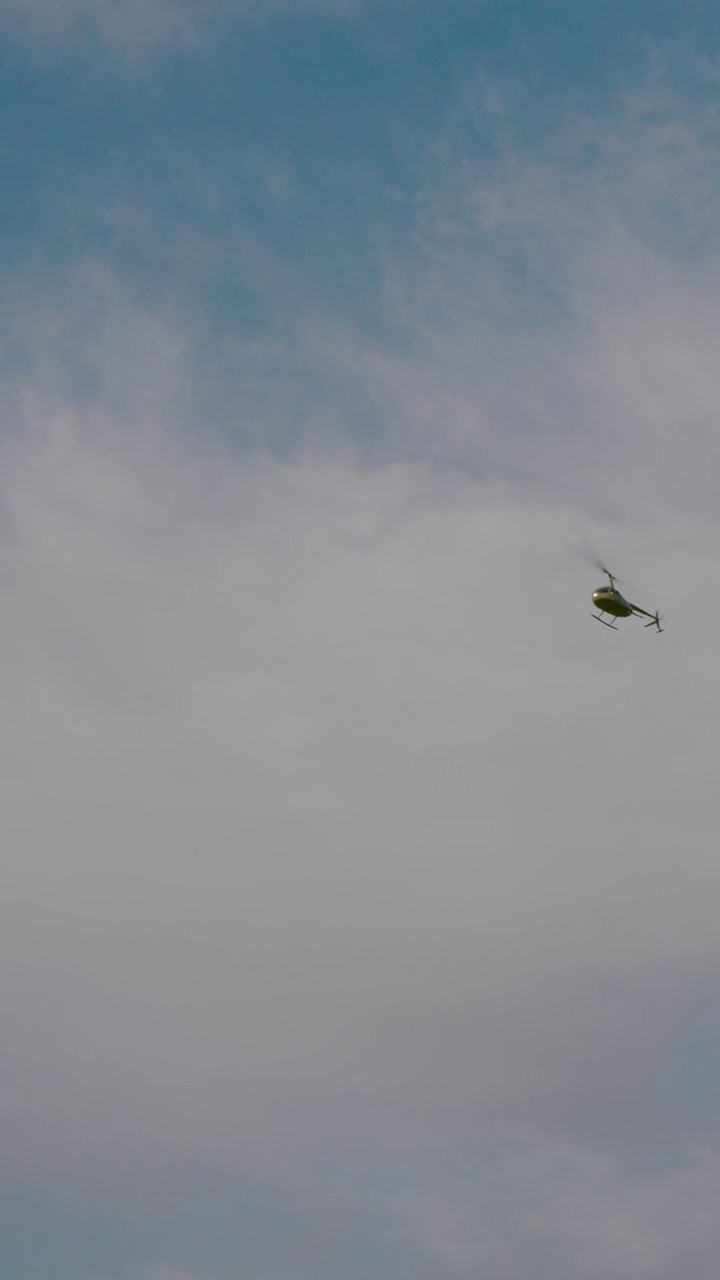heli: (583, 553, 663, 637)
